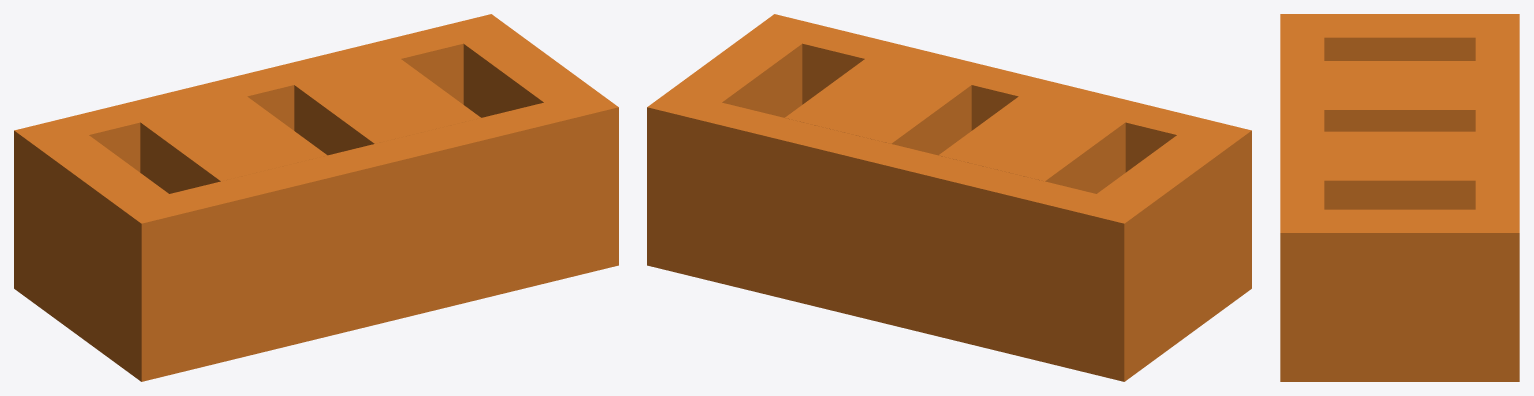
3 views of the same model, side by side, from view 1: azimuth 30°, elevation 25°; view 2: azimuth 150°, elevation 25°; view 3: azimuth 270°, elevation 25° (orthographic). The views are drawn at different scales.
Parts seen in each view (by area): view 1: Куб.001; view 2: Куб.001; view 3: Куб.001.
Boxes of the visible parts, bbox=[...] form: Куб.001: bbox=[14, 14, 618, 381]; Куб.001: bbox=[647, 14, 1251, 381]; Куб.001: bbox=[1280, 14, 1519, 381].
Size of the model in its own units: 254 by 80.71 by 118.
